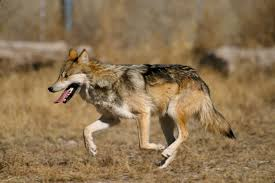Lobo: (43, 42, 241, 170)
